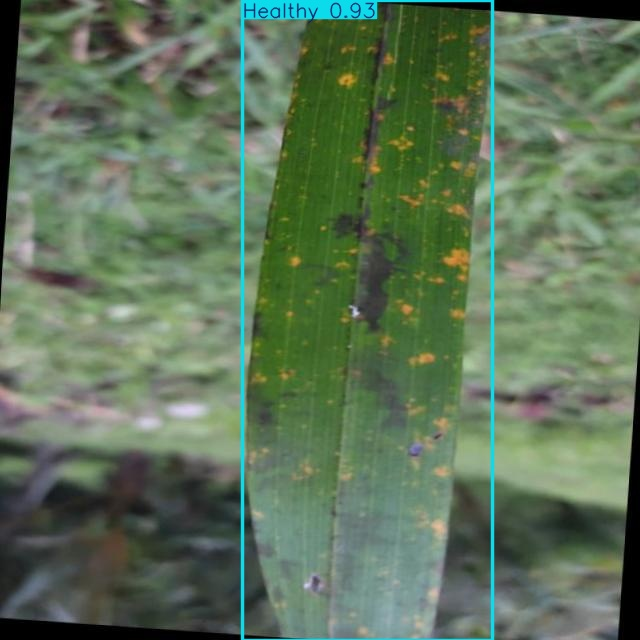Healthy: (242, 0, 493, 640)
